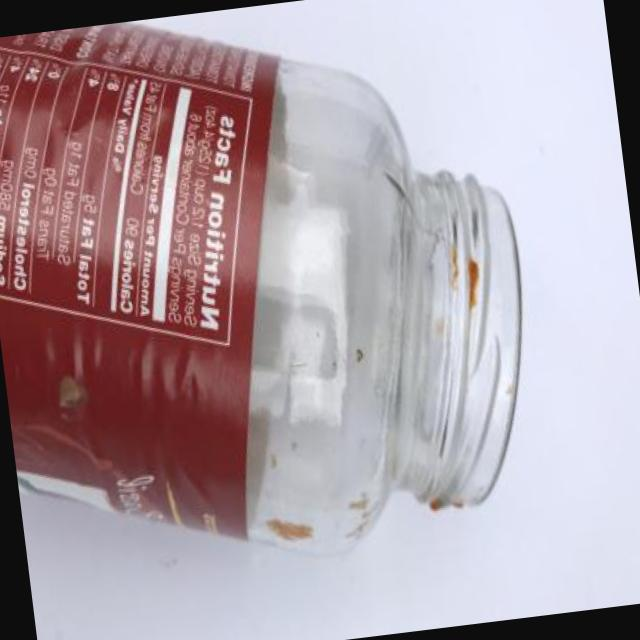chai_thuy_tinh: (0, 21, 524, 563)
